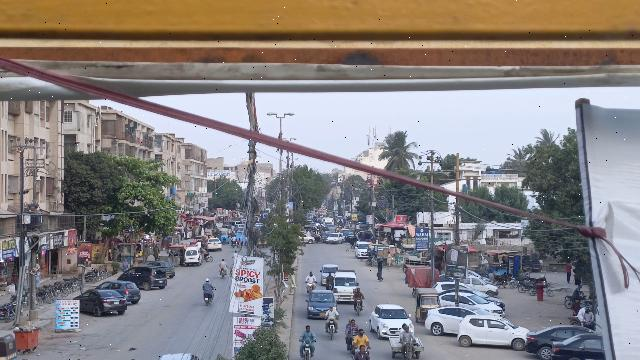Bike: (324, 316, 340, 341), (301, 337, 318, 360), (352, 296, 366, 317), (203, 290, 213, 307), (305, 280, 317, 292), (218, 268, 228, 281)
Car: (456, 312, 526, 350), (525, 323, 585, 358), (423, 305, 486, 335), (369, 301, 416, 338), (439, 292, 510, 315), (73, 289, 128, 317), (549, 334, 604, 360), (116, 265, 168, 291), (95, 279, 140, 305), (306, 287, 339, 320)
Cart: (386, 323, 426, 360)
Person: (372, 259, 387, 283), (299, 323, 317, 342), (401, 325, 414, 343), (324, 303, 338, 319), (346, 316, 358, 334), (202, 276, 214, 292), (305, 270, 317, 284), (353, 287, 364, 301), (219, 258, 227, 269)
Rickshaw: (413, 286, 440, 321)
Van: (333, 269, 359, 305), (181, 245, 204, 267)
